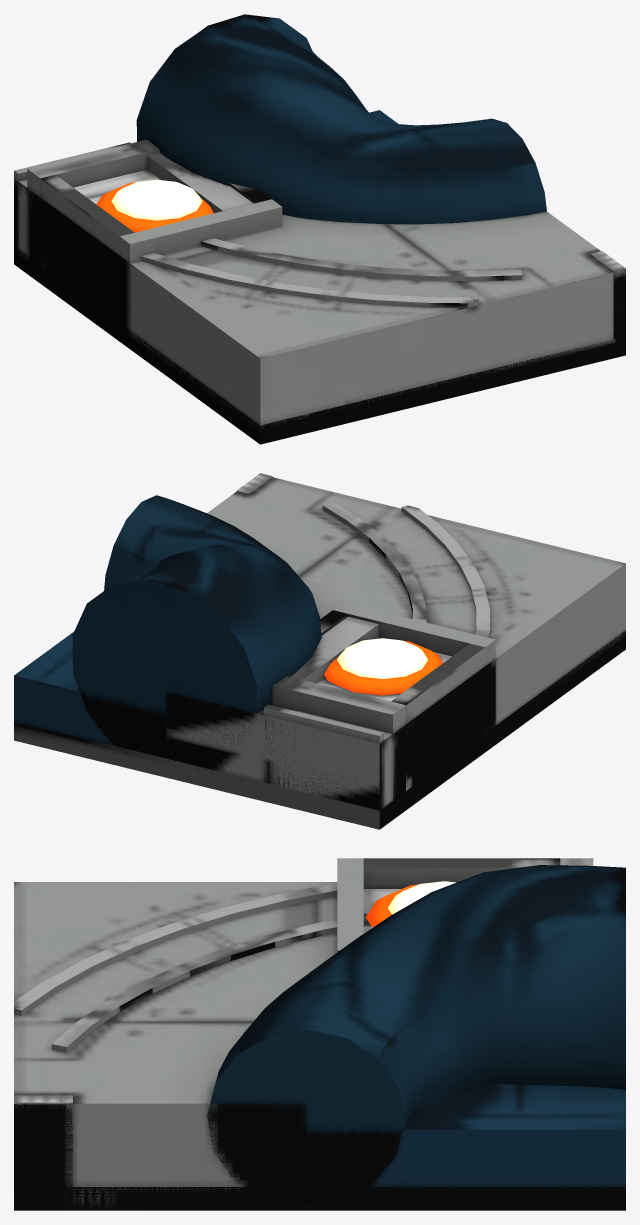
The model's file is newshb-117-f4.glb.
3 renders of one model, top to bottom at view 1: azimuth 30°, elevation 25°; view 2: azimuth 150°, elevation 25°; view 3: azimuth 270°, elevation 25°, orthographic. The views are drawn at different scales.
Visible parts, largest first — view 1: newshb-117, newshb-117-f4-flash-273, newshb-117-f4-flash-271; view 2: newshb-117, newshb-117-f4-flash-273, newshb-117-f4-flash-271; view 3: newshb-117, newshb-117-f4-flash-273.
Part boxes in pixels (x1,y1,x2,y2): newshb-117: (14,14,625,444); newshb-117-f4-flash-273: (96,179,213,232); newshb-117-f4-flash-271: (147,152,253,213); newshb-117: (14,473,625,829); newshb-117-f4-flash-273: (324,638,442,695); newshb-117-f4-flash-271: (290,616,378,683); newshb-117: (14,858,625,1210); newshb-117-f4-flash-273: (366,881,455,926).
Bounding box in the file's own units: 2 × 1.01 × 2.33.
Materials: 11 (11 with a texture image).
